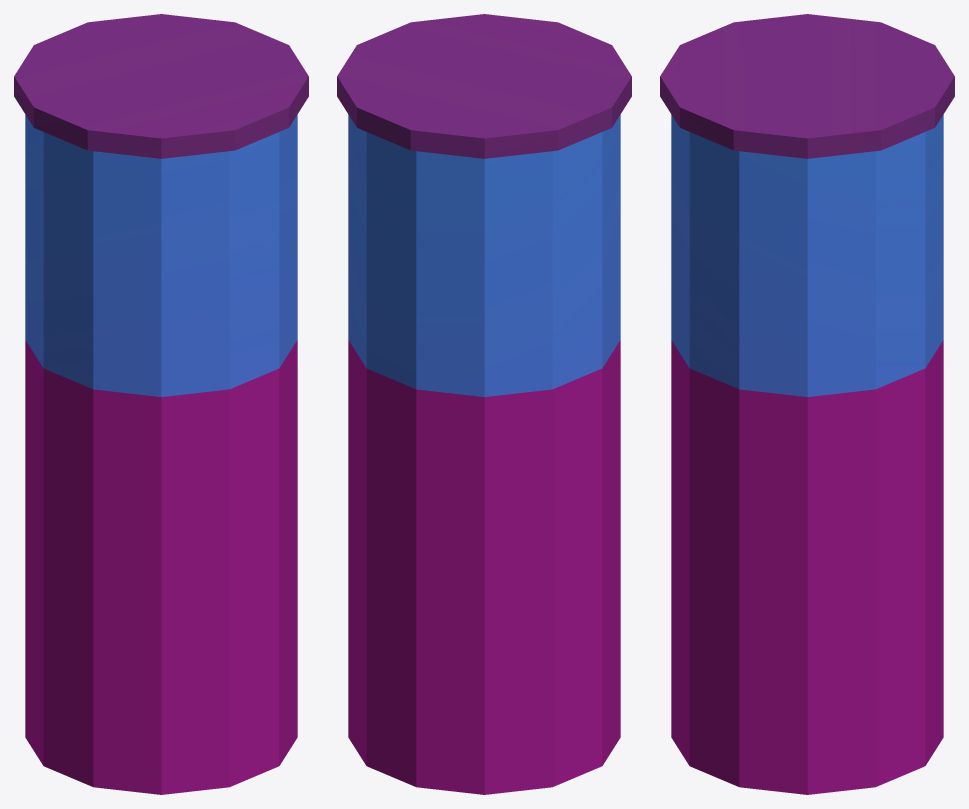
The model's file is Ürün71.fbx.
3 views of the same model, side by side, from view 1: azimuth 30°, elevation 25°; view 2: azimuth 150°, elevation 25°; view 3: azimuth 270°, elevation 25° (orthographic).
Parts seen in each view (by area): view 1: pCylinder47; view 2: pCylinder47; view 3: pCylinder47.
Part boxes in pixels (<box>): pCylinder47: <box>14,14,308,794</box>; pCylinder47: <box>337,14,631,794</box>; pCylinder47: <box>660,14,954,794</box>.
Size of the model in its own units: 11.6 by 28.73 by 11.6.
